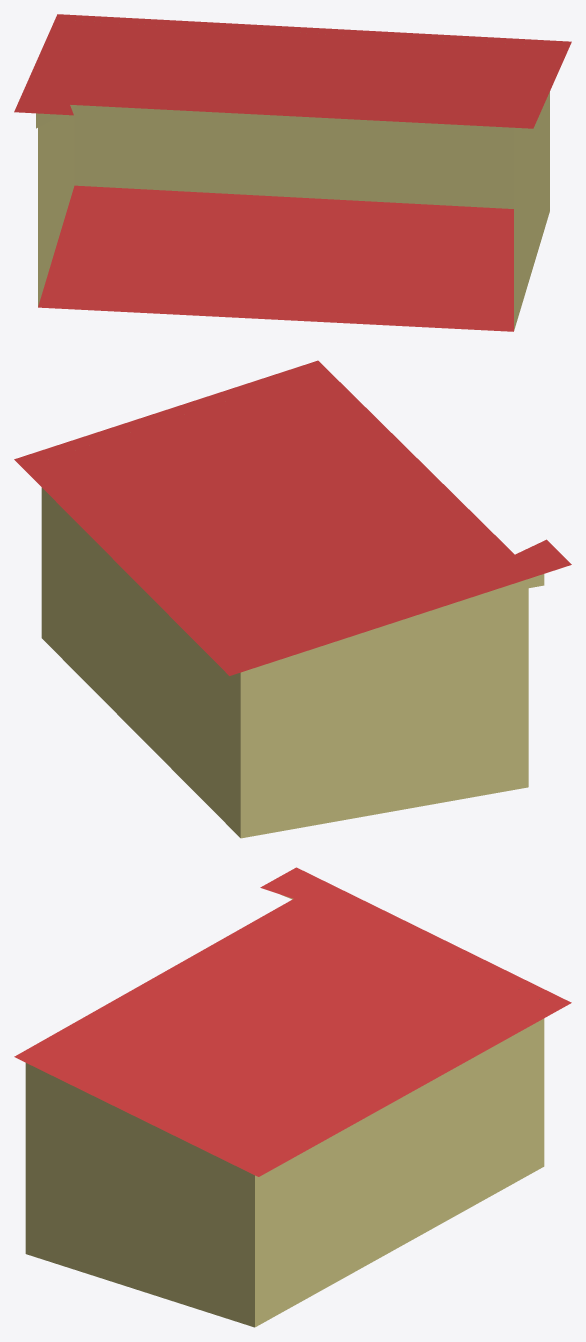
3 renders of one model, top to bottom at view 1: azimuth 30°, elevation 25°; view 2: azimuth 150°, elevation 25°; view 3: azimuth 270°, elevation 25°, orthographic. The views are drawn at different scales.
Size of the model in its own units: 23.77 by 21.33 by 8.82.
